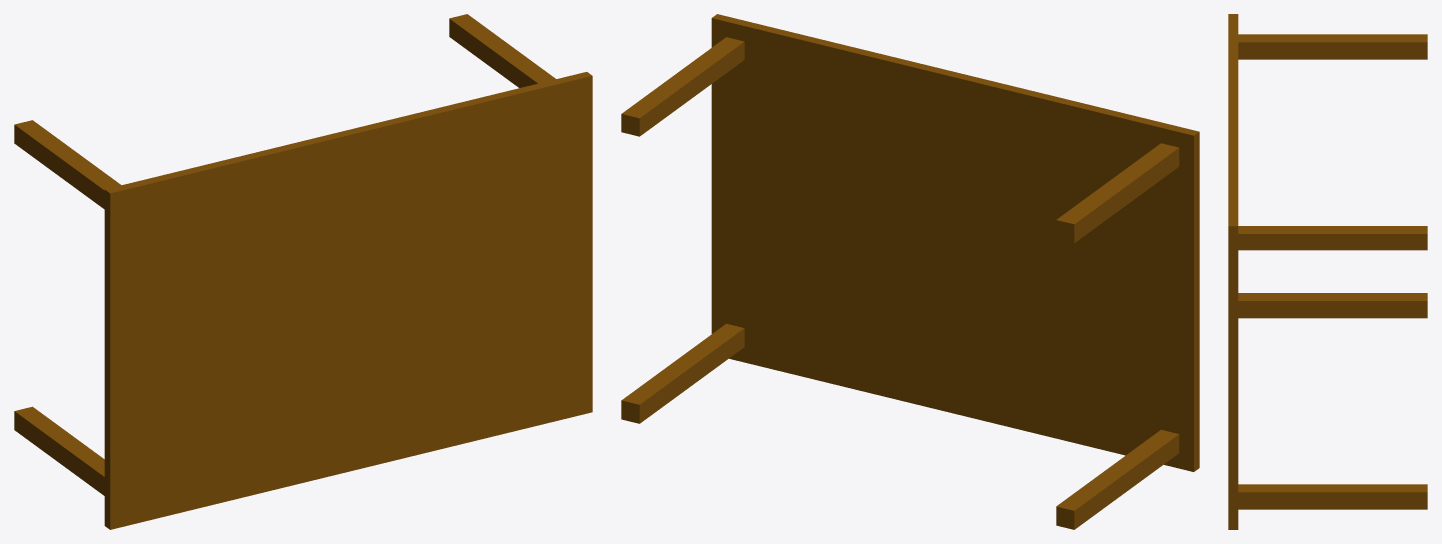
File: table_0515.obj
The picture shows the model from 3 angles, left to right: view 1: azimuth 30°, elevation 25°; view 2: azimuth 150°, elevation 25°; view 3: azimuth 270°, elevation 25°; orthographic projection. The views are drawn at different scales.
Visible parts, largest first — view 1: mesh4, mesh0, mesh1, mesh7, mesh14, mesh11, mesh19, mesh18, mesh8; view 2: mesh5, mesh0, mesh21, mesh7, mesh14, mesh1, mesh18, mesh11, mesh8, mesh19, mesh22; view 3: mesh9, mesh12, mesh23, mesh3, mesh16, mesh0, mesh11, mesh22, mesh8, mesh19.
Boxes of the visible parts, x1,y1,x2,y2 form: mesh4: (110, 76, 592, 529); mesh0: (105, 72, 591, 193); mesh1: (104, 190, 110, 529); mesh7: (14, 411, 104, 495); mesh14: (14, 124, 104, 209); mesh11: (15, 120, 121, 190); mesh19: (449, 14, 555, 83); mesh18: (449, 19, 537, 87); mesh8: (15, 406, 104, 476); mesh5: (711, 18, 1193, 471); mesh0: (712, 14, 1198, 135); mesh21: (639, 328, 744, 423); mesh7: (1074, 434, 1179, 529); mesh14: (1074, 148, 1179, 242); mesh1: (1194, 132, 1199, 471); mesh18: (639, 42, 744, 136); mesh11: (1056, 143, 1178, 224); mesh8: (1056, 429, 1178, 510); mesh19: (622, 37, 744, 118); mesh22: (621, 323, 743, 404); mesh9: (1238, 301, 1427, 318); mesh12: (1238, 42, 1427, 59); mesh23: (1238, 492, 1427, 509); mesh3: (1228, 226, 1238, 529); mesh16: (1238, 234, 1427, 250); mesh0: (1228, 14, 1238, 226); mesh11: (1238, 34, 1427, 42); mesh22: (1238, 484, 1427, 492); mesh8: (1238, 293, 1427, 300); mesh19: (1238, 226, 1427, 233).
Size of the model in its own units: 0.0762 by 0.0508 by 0.0302.
